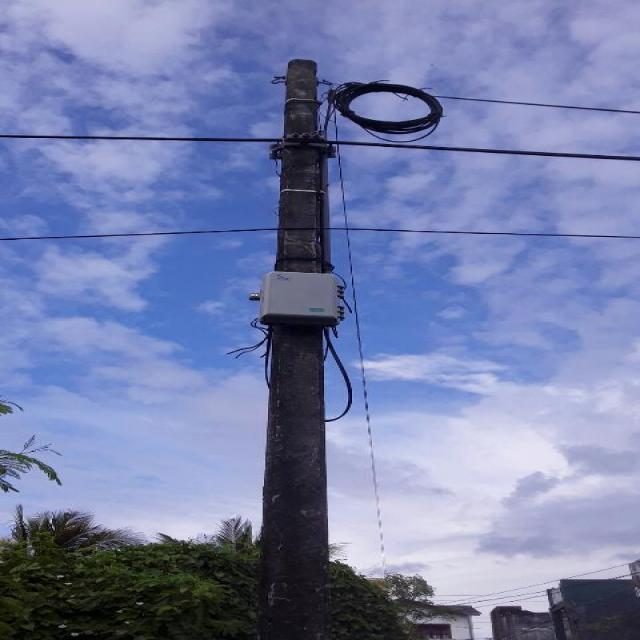light_pole: (240, 56, 354, 640)
